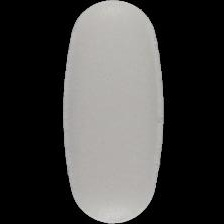10544-265: (0, 0, 224, 224)
